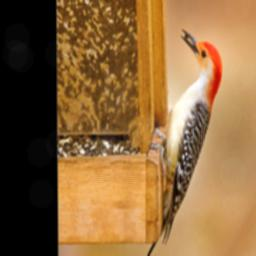Woodpecker: (139, 28, 224, 256)
